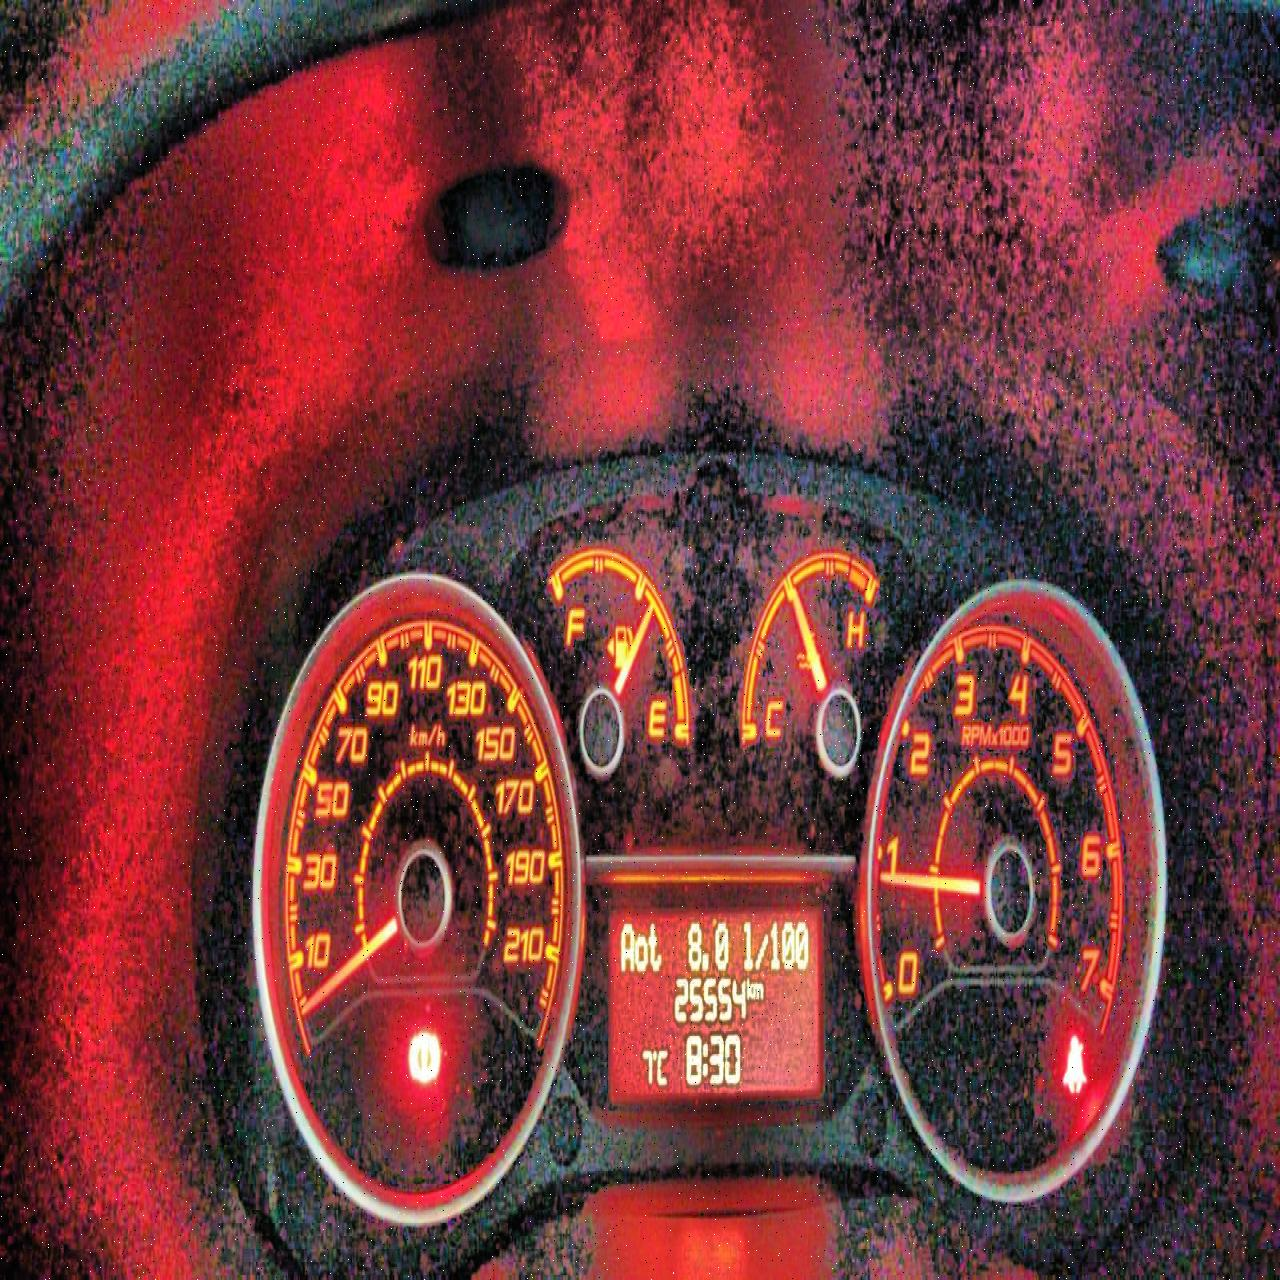-: (701, 952, 708, 971)
0: (724, 1032, 741, 1084), (794, 919, 809, 971), (779, 919, 795, 969), (714, 919, 729, 969)
1: (770, 919, 781, 969)
2: (674, 975, 688, 1021)
3: (709, 1032, 724, 1084)
4: (731, 976, 747, 1020)
5: (688, 974, 703, 1023), (717, 975, 731, 1021), (703, 975, 716, 1021)
7: (641, 1047, 653, 1084)
8: (685, 1033, 701, 1085), (687, 920, 701, 969)
X: (647, 921, 662, 974), (620, 920, 634, 973), (742, 919, 753, 971), (754, 932, 768, 969), (634, 933, 647, 973), (655, 1047, 668, 1084), (753, 979, 764, 1000), (702, 1039, 708, 1075), (747, 975, 753, 999)
odometer: (606, 903, 825, 1107)
